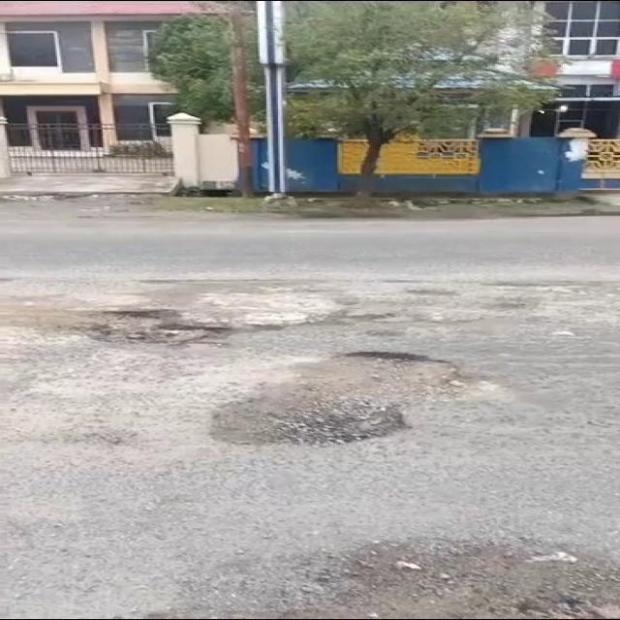lubang: (211, 352, 460, 444), (72, 310, 233, 341)
